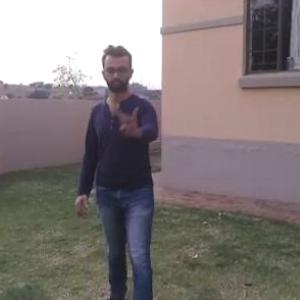takeoff-hand: (110, 93, 146, 139)
